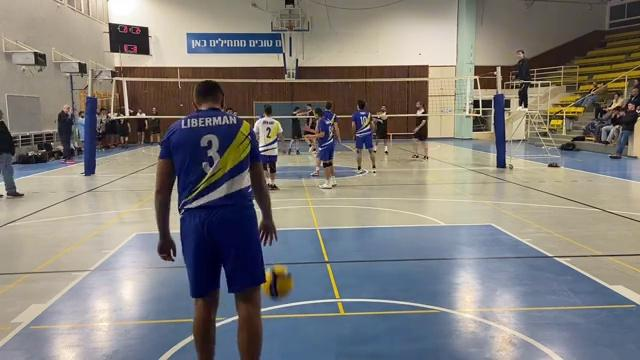ball: (266, 265, 295, 300)
